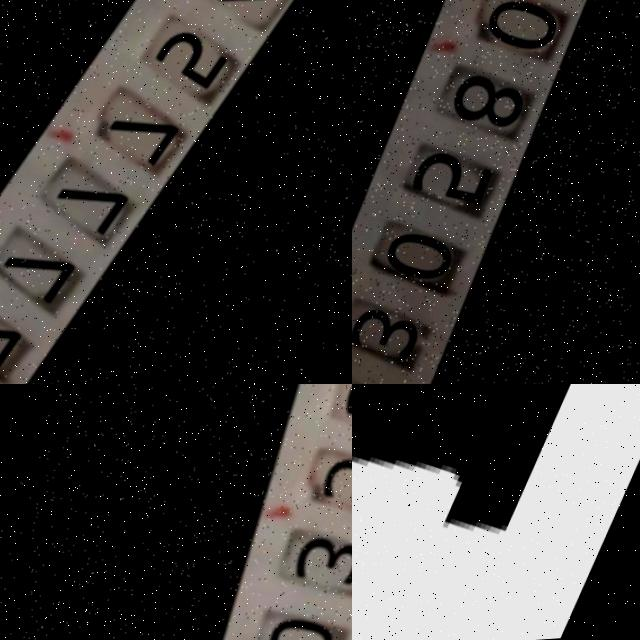0: (470, 0, 579, 80), (375, 221, 475, 307), (247, 598, 352, 640)
3: (277, 519, 352, 620), (352, 297, 440, 382)
4: (178, 0, 305, 50)
5: (133, 16, 251, 122), (400, 138, 511, 234), (301, 440, 352, 542)
7: (83, 88, 202, 195), (34, 155, 152, 262), (0, 221, 101, 330), (0, 296, 46, 384)
8: (439, 63, 544, 156)
D: (352, 384, 640, 640)
